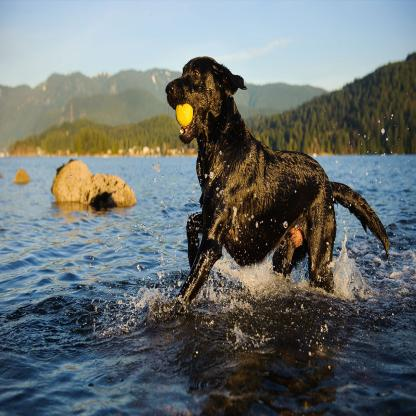Labarador Retriever: (166, 55, 388, 334)
